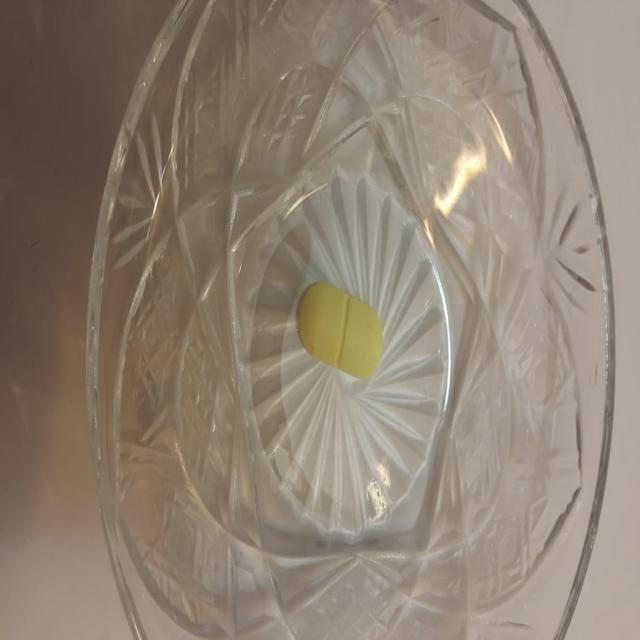pills: (293, 267, 393, 391)
